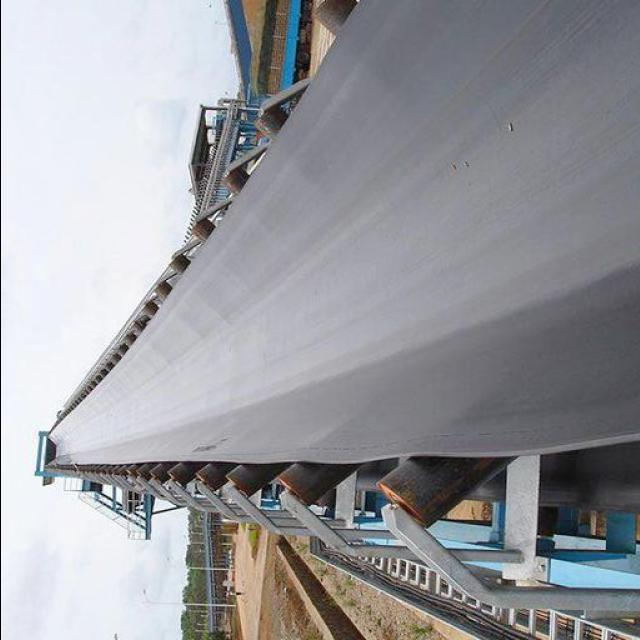conveyor: (51, 1, 640, 467)
